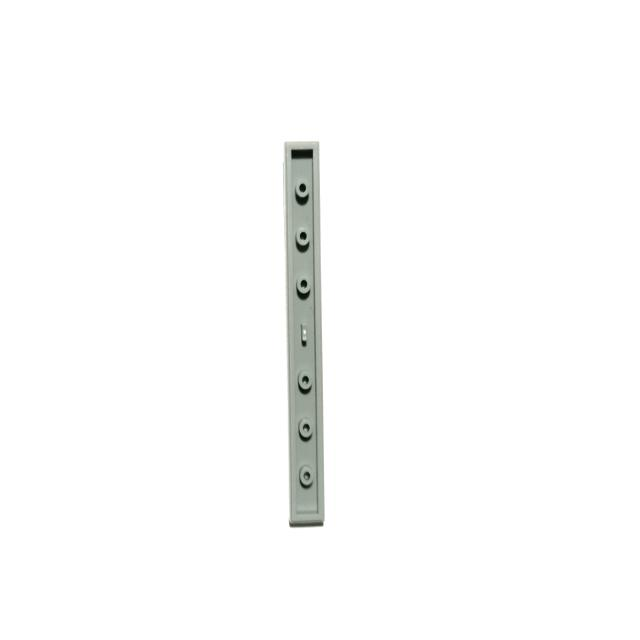White_Large: (285, 140, 326, 527)
